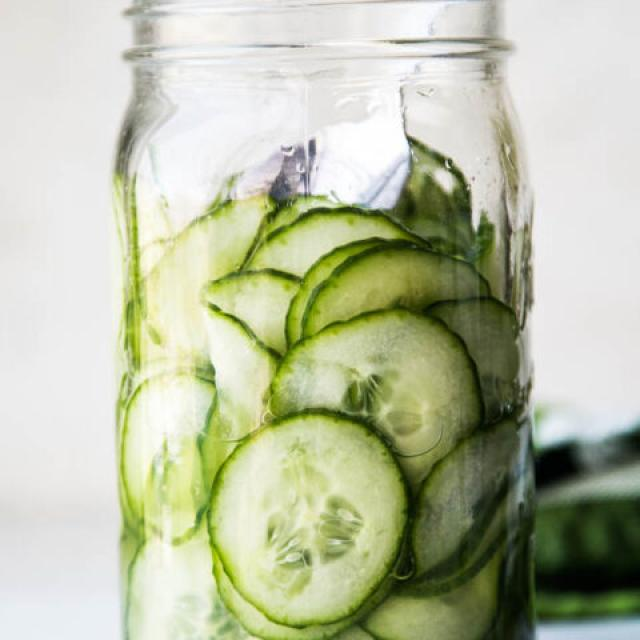Pickle: (209, 414, 408, 640), (272, 309, 482, 489), (304, 244, 488, 336), (121, 374, 215, 542), (364, 550, 501, 640), (246, 210, 421, 277), (205, 270, 300, 353)
